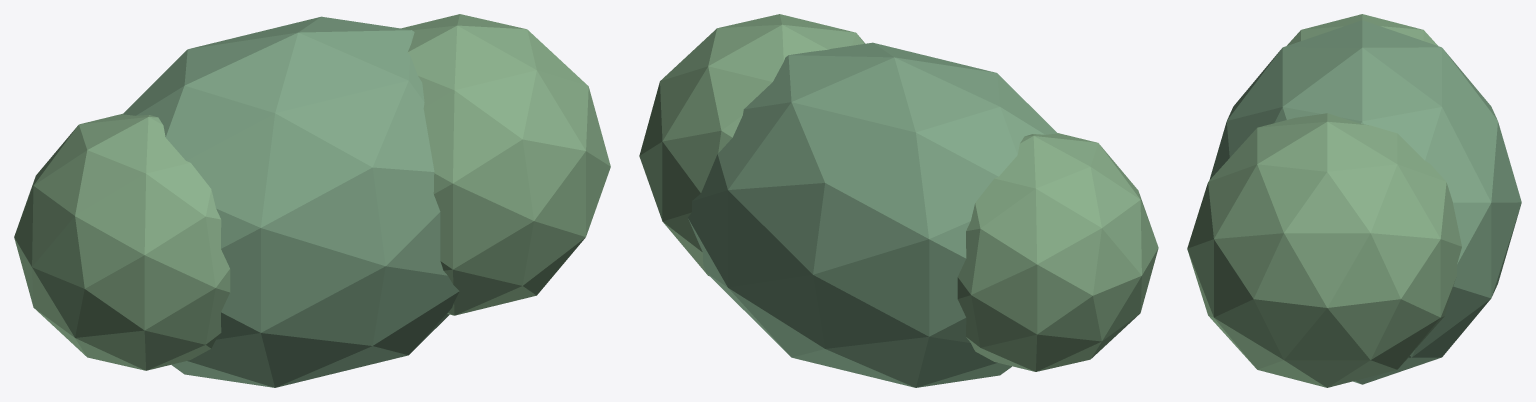
The model's file is shrub_edge.glb.
The picture shows the model from 3 angles, left to right: view 1: azimuth 30°, elevation 25°; view 2: azimuth 150°, elevation 25°; view 3: azimuth 270°, elevation 25°; orthographic projection. The views are drawn at different scales.
Parts seen in each view (by area): view 1: shrub_edge_0, shrub_edge_1, shrub_edge_2; view 2: shrub_edge_0, shrub_edge_2, shrub_edge_1; view 3: shrub_edge_1, shrub_edge_0, shrub_edge_2.
Boxes of the visible parts, bbox=[...] form: shrub_edge_0: bbox=[123, 16, 459, 387]; shrub_edge_1: bbox=[401, 14, 610, 315]; shrub_edge_2: bbox=[14, 113, 230, 370]; shrub_edge_0: bbox=[688, 42, 1057, 387]; shrub_edge_2: bbox=[957, 133, 1158, 371]; shrub_edge_1: bbox=[639, 14, 864, 276]; shrub_edge_1: bbox=[1187, 113, 1461, 387]; shrub_edge_0: bbox=[1209, 20, 1521, 384]; shrub_edge_2: bbox=[1287, 14, 1437, 45].
Size of the model in its own units: 1.62 by 0.975 by 0.955.
